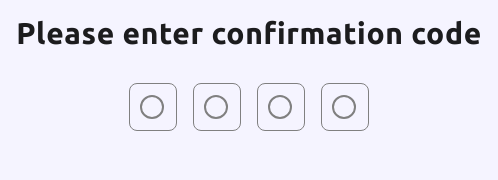
Scenario: CodeForm component › displays an error if the code is incorrect
The image size is (498, 180).
Type "9" into the 1st field at (153, 107), box [129,83,177,131]
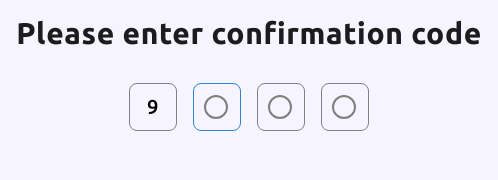
Type "9" into the 2nd field at (217, 107), box [193,83,241,131]
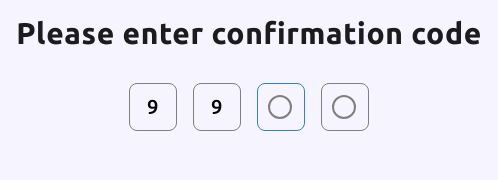
Type "9" into the 3rd field at (281, 107), box [257,83,305,131]
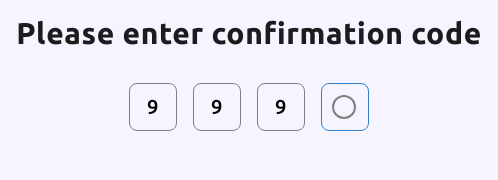
Type "9" into the 4th field at (345, 107), box [321,83,369,131]
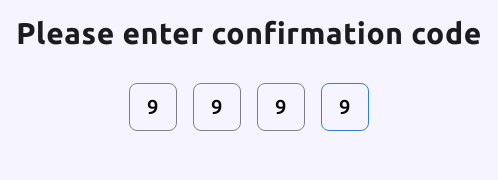
Submit the form, box [16,16,482,131]
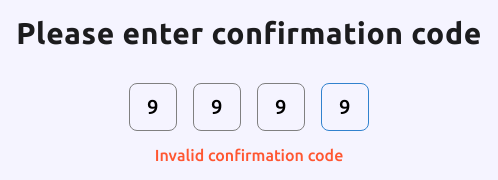
Check: the text "Invalid confirmation code" is shown, box [155,146,343,164]
